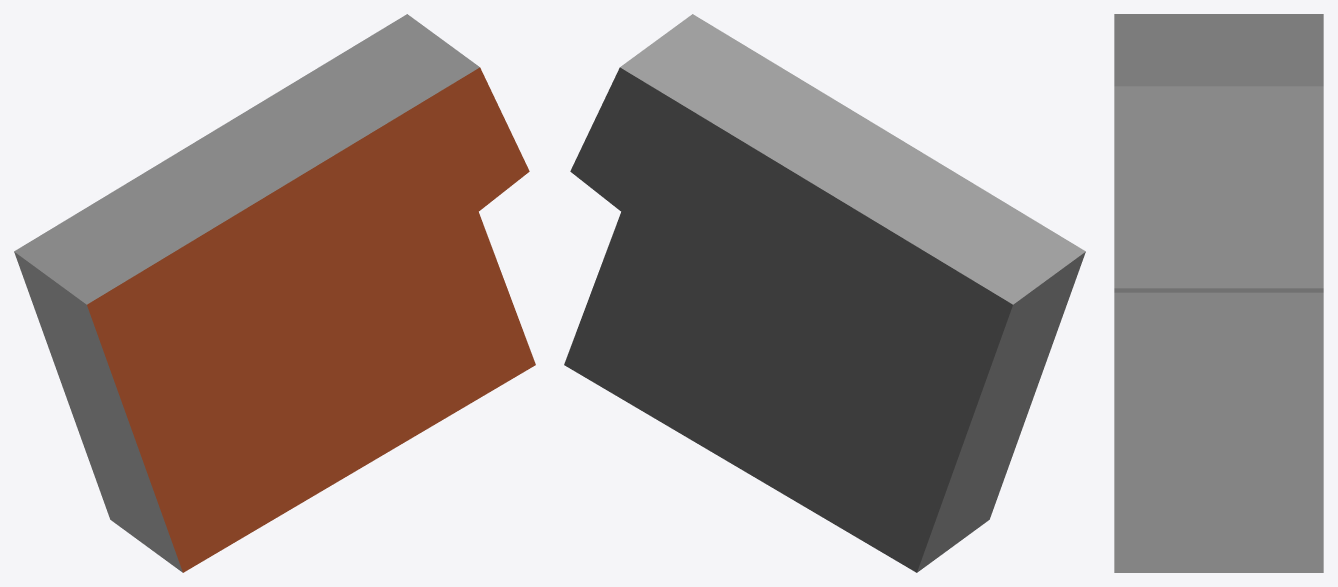
File: construction_2471_assumed_A_Casa_h6m.obj
3 renders of one model, left to right at view 1: azimuth 30°, elevation 25°; view 2: azimuth 150°, elevation 25°; view 3: azimuth 270°, elevation 25°, orthographic. The views are drawn at different scales.
Visible parts, largest first — view 1: construction_2471_assumed_A_Casa; view 2: construction_2471_assumed_A_Casa; view 3: construction_2471_assumed_A_Casa.
Part boxes in pixels (bbox=[...]): construction_2471_assumed_A_Casa: bbox=[14, 14, 535, 572]; construction_2471_assumed_A_Casa: bbox=[564, 14, 1085, 572]; construction_2471_assumed_A_Casa: bbox=[1114, 14, 1323, 572].
Bounding box in the file's own units: 21.37 × 19.69 × 6.
